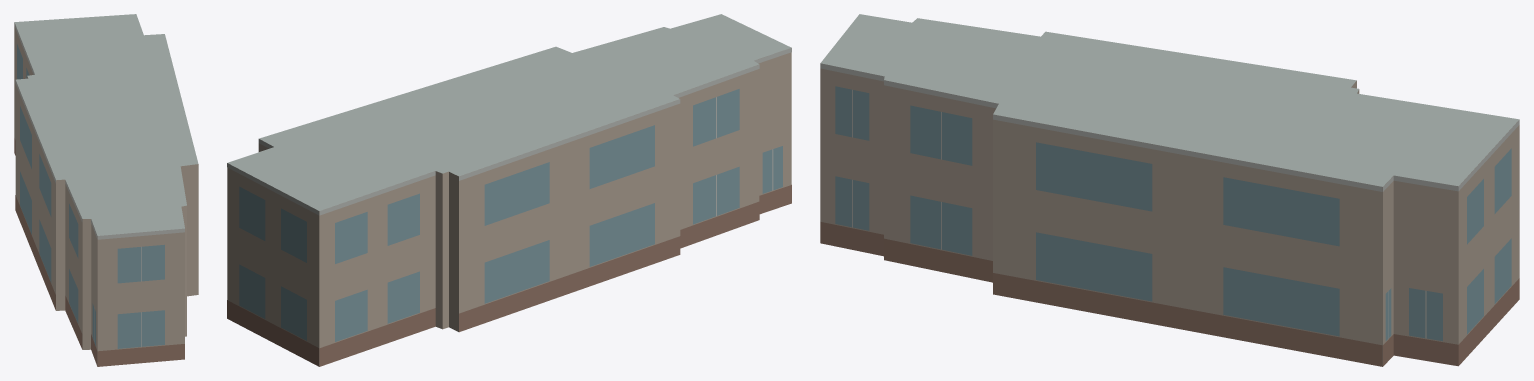
Rendered from survey-upis-32903593.glb.
3 renders of one model, left to right at view 1: azimuth 30°, elevation 25°; view 2: azimuth 150°, elevation 25°; view 3: azimuth 270°, elevation 25°, orthographic. The views are drawn at different scales.
Parts seen in each view (by area): view 1: survey-upis-32903593.tmp; view 2: survey-upis-32903593.tmp; view 3: survey-upis-32903593.tmp.
Part boxes in pixels (x1,y1,x2,y2): survey-upis-32903593.tmp: [14, 14, 198, 366]; survey-upis-32903593.tmp: [227, 14, 791, 366]; survey-upis-32903593.tmp: [820, 14, 1519, 366].
Bounding box in the file's own units: 17.48 × 8.48 × 29.87.
